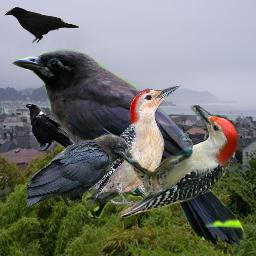Crow: (12, 49, 246, 247), (27, 133, 137, 209), (25, 101, 84, 155), (2, 5, 79, 43)
Woodpecker: (49, 83, 183, 206), (118, 105, 239, 218)
